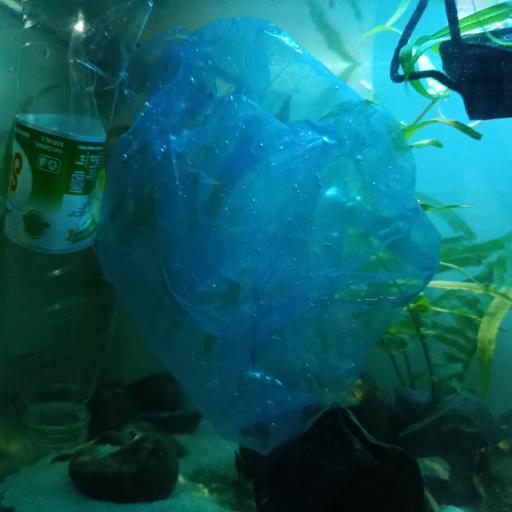mask: (389, 0, 512, 120)
plastic_bag: (97, 21, 441, 451)
plastic_bottle: (6, 0, 152, 452)
